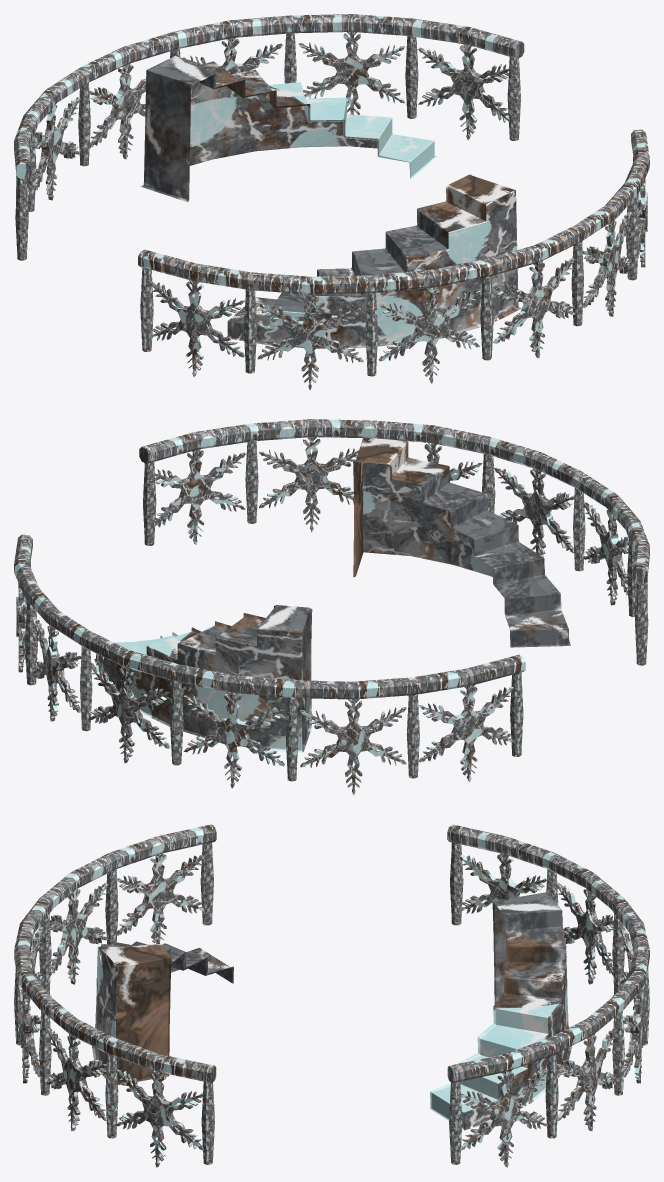
The model's file is field_winter_road9.fbx.
3 views of the same model, one above another, from view 1: azimuth 30°, elevation 25°; view 2: azimuth 150°, elevation 25°; view 3: azimuth 270°, elevation 25° (orthographic).
Parts seen in each view (by area): view 1: field_winter_road9; view 2: field_winter_road9; view 3: field_winter_road9.
Part boxes in pixels (x1,y1,x2,y2): field_winter_road9: (14, 14, 649, 390); field_winter_road9: (14, 419, 649, 795); field_winter_road9: (14, 824, 649, 1167).
Size of the model in its own units: 442 by 107 by 480.
1 material, 1 textured.
